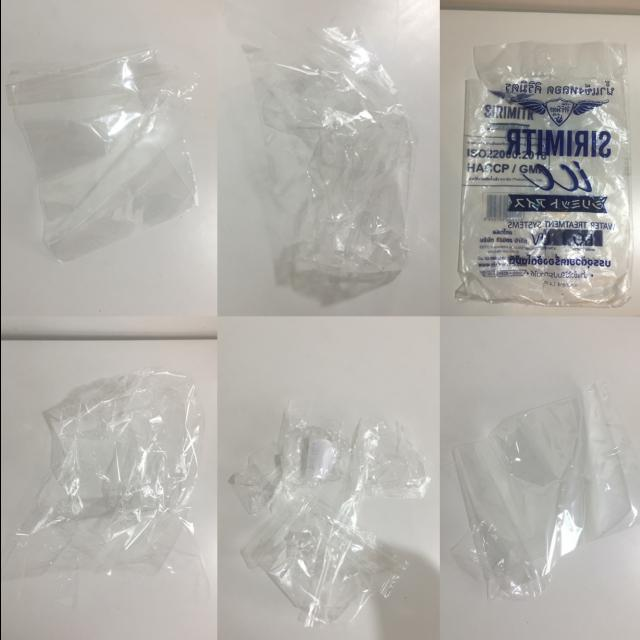plastik: (240, 27, 414, 306), (454, 42, 631, 307), (228, 411, 428, 626), (0, 369, 202, 579), (5, 49, 196, 262), (450, 386, 640, 600)
